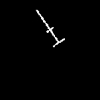double_crochet: (36, 10, 64, 46)
